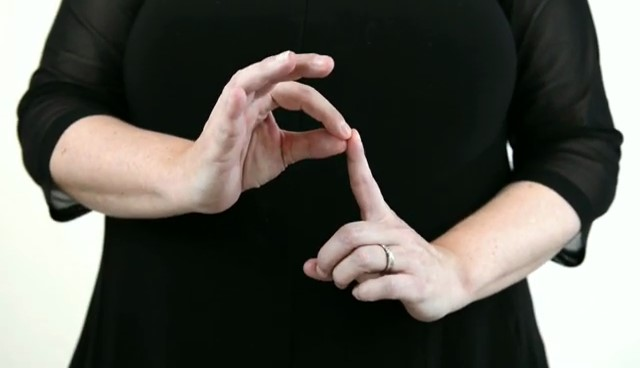P: (183, 42, 447, 330)
